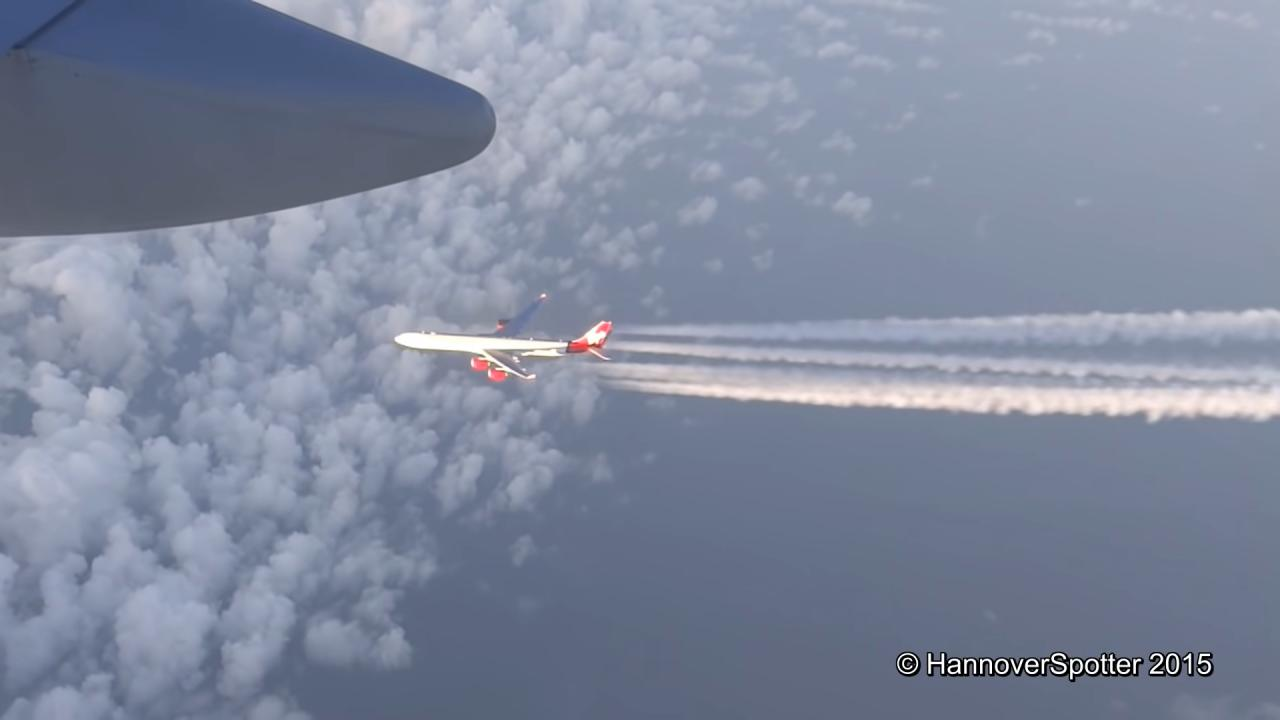Airplane: (383, 286, 621, 395)
